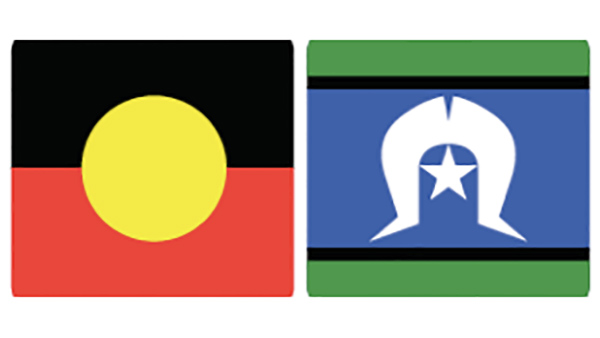aboriginal_flag: (7, 36, 302, 304)
